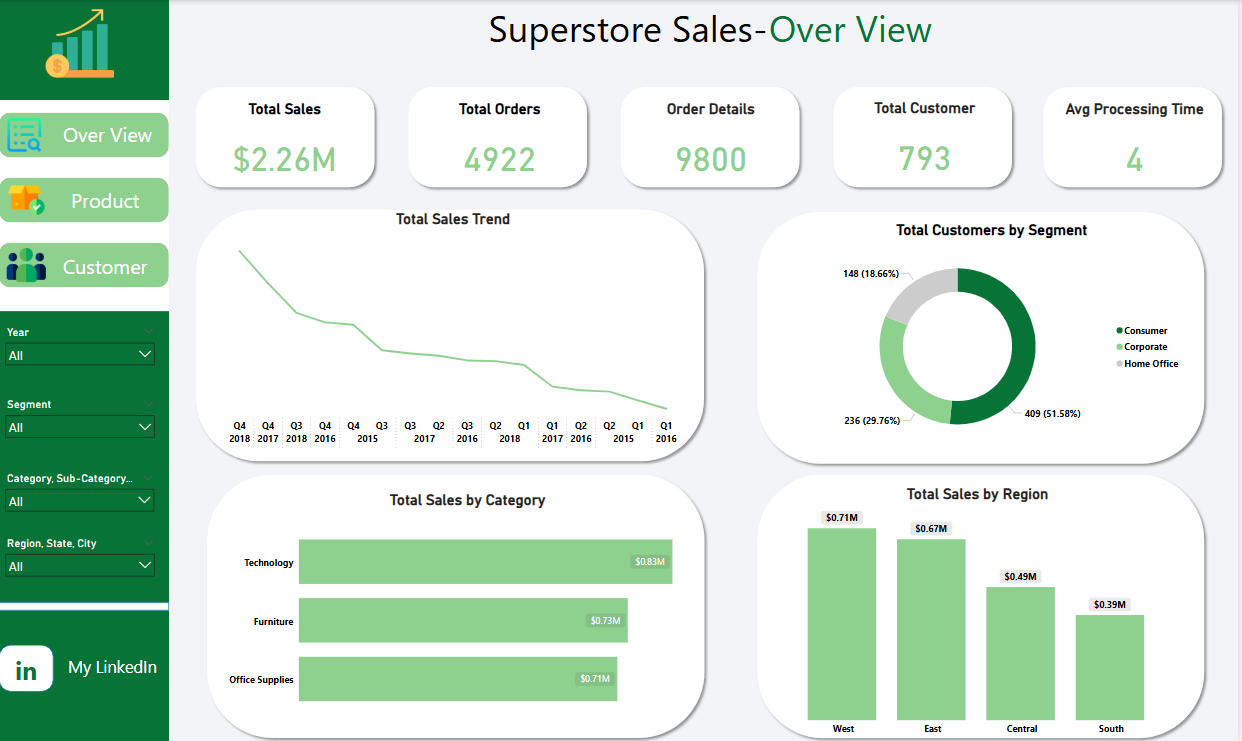

Layout of this report page (visuals, bound fields, positions):
{"tool":"powerbi","page":{"name":"Over View","canvas":[2000,1200],"ordinal":0},"visuals":[{"type":"shape","box":[0,0,274.4,1200.7],"z":0},{"type":"slicer","fields":{"Values":["Dim-Date.Year"]},"box":[0,521,261.6,79.3],"z":1000},{"type":"slicer","fields":{"Values":["Dim-Customer.Segment"]},"box":[0,636.8,261.6,79.3],"z":2000},{"type":"slicer","fields":{"Values":["Dim-Product.Category","Dim-Product.Sub-Category","Dim-Product.Product Name"]},"box":[0,756.1,260.7,85.1],"z":3000},{"type":"slicer","fields":{"Values":["Dim Location.Region","Dim Location.State","Dim Location.City"]},"box":[0,861.9,261.6,94.3],"z":4000},{"type":"shape","box":[0,392.4,274.4,12.9],"z":5000},{"type":"shape","box":[0,973.4,274.4,12.9],"z":6000},{"type":"shape","box":[308.7,130.8,306.6,180.1],"z":7000},{"type":"shape","box":[651.8,130.8,306.6,180.1],"z":8000},{"type":"shape","box":[994.9,130.8,306.6,180.1],"z":9000},{"type":"shape","box":[1337.9,130.8,306.6,180.1],"z":10000},{"type":"shape","box":[1676.7,130.8,306.6,180.1],"z":11000},{"type":"shape","box":[308.7,328,838.3,424.5],"z":12000},{"type":"shape","box":[325.9,756.9,821.2,443.8],"z":13000},{"type":"shape","box":[1213.6,332.3,739.7,424.5],"z":14000},{"type":"shape","box":[1213.6,756.9,739.7,443.8],"z":15000},{"type":"lineChart","title":"Total Sales Trend","fields":{"Y":["Measures (2).Total Sales"],"Category":["Dim-Date.Year","Dim-Date.Quarter","Dim-Date.Month","Dim-Date.Week of Year"]},"box":[364.5,338.8,735.4,394.5],"z":16000},{"type":"donutChart","fields":{"Y":["Measures (2).Total Customers"],"Category":["Dim-Customer.Segment"]},"box":[1286.5,358.1,630.4,377.4],"z":17000},{"type":"card","title":"Total Sales","fields":{"Values":["Measures (2).Total Sales"]},"box":[323.8,160.8,276.6,150.1],"z":18000},{"type":"barChart","fields":{"Y":["Measures (2).Total Sales"],"Category":["Dim-Product.Category"]},"box":[364.5,793.3,782.6,385.9],"z":19000},{"type":"columnChart","fields":{"Y":["Measures (2).Total Sales"],"Category":["Dim Location.Region"]},"box":[1243.6,782.6,673.2,413.8],"z":20000},{"type":"card","title":"Total Orders","fields":{"Values":["Measures (2).Total Orders"]},"box":[669,160.8,276.6,150.1],"z":21000},{"type":"card","title":"Order Details","fields":{"Values":["Measures (2).# Order Details"]},"box":[1009.9,160.8,276.6,150.1],"z":22000},{"type":"card","title":"Total Customer","fields":{"Values":["Measures (2).Total Customers"]},"box":[1355.1,158.7,276.6,152.2],"z":23000},{"type":"card","title":"Avg Processing Time","fields":{"Values":["Measures (2).Avg Processing Time"]},"box":[1693.8,160.8,276.6,150.1],"z":24000},{"type":"shape","box":[0,160.8,274.4,340.9],"z":25000},{"type":"shape","box":[0,182.2,274.4,72.9],"z":26000},{"type":"shape","box":[0,287.3,274.4,72.9],"z":27000},{"type":"shape","box":[0,392.4,274.4,72.9],"z":28000},{"type":"image","box":[0,289.5,87.9,68.6],"z":29000},{"type":"image","box":[0,186.5,81.5,64.3],"z":30000},{"type":"image","box":[2.1,392.4,83.6,72.9],"z":31000},{"type":"image","box":[0,10.7,261.6,120.1],"z":32000},{"type":"textbox","box":[718.2,0,859.5,100.9],"z":33000},{"type":"shape","box":[0,1042,87.9,75],"z":34000},{"type":"actionButton","box":[81.5,182.2,188.7,68.6],"z":35000},{"type":"actionButton","box":[72.9,289.5,197.3,68.6],"z":36000},{"type":"actionButton","box":[72.9,394.5,197.3,68.6],"z":37000},{"type":"actionButton","box":[6.4,1031.3,75,100.8],"z":38000},{"type":"actionButton","box":[87.9,1042,188.7,68.6],"z":39000}]}

Visuals, with their boxes in screenshot pixels (x1, y1, x2, y2), scaled from the page's 2000x1200 canvas onto the 1242x741 screenshot:
shape: select_region(0, 0, 170, 740)
slicer - Dim-Date.Year: select_region(0, 322, 162, 371)
slicer - Dim-Customer.Segment: select_region(0, 393, 162, 442)
slicer - Dim-Product.Category x Dim-Product.Sub-Category: select_region(0, 467, 162, 519)
slicer - Dim Location.Region x Dim Location.State: select_region(0, 532, 162, 590)
shape: select_region(0, 242, 170, 250)
shape: select_region(0, 601, 170, 609)
shape: select_region(192, 81, 382, 192)
shape: select_region(405, 81, 595, 192)
shape: select_region(618, 81, 808, 192)
shape: select_region(831, 81, 1021, 192)
shape: select_region(1041, 81, 1232, 192)
shape: select_region(192, 203, 712, 465)
shape: select_region(202, 467, 712, 740)
shape: select_region(754, 205, 1213, 467)
shape: select_region(754, 467, 1213, 740)
"Total Sales Trend" lineChart: select_region(226, 209, 683, 453)
donutChart - Measures (2).Total Customers x Dim-Customer.Segment: select_region(799, 221, 1190, 454)
"Total Sales" card: select_region(201, 99, 373, 192)
barChart - Measures (2).Total Sales x Dim-Product.Category: select_region(226, 490, 712, 728)
columnChart - Measures (2).Total Sales x Dim Location.Region: select_region(772, 483, 1190, 739)
"Total Orders" card: select_region(415, 99, 587, 192)
"Order Details" card: select_region(627, 99, 799, 192)
"Total Customer" card: select_region(842, 98, 1013, 192)
"Avg Processing Time" card: select_region(1052, 99, 1224, 192)
shape: select_region(0, 99, 170, 310)
shape: select_region(0, 113, 170, 158)
shape: select_region(0, 177, 170, 222)
shape: select_region(0, 242, 170, 287)
image: select_region(0, 179, 55, 221)
image: select_region(0, 115, 51, 155)
image: select_region(1, 242, 53, 287)
image: select_region(0, 7, 162, 81)
textbox: select_region(446, 0, 980, 62)
shape: select_region(0, 643, 55, 690)
actionButton: select_region(51, 113, 168, 155)
actionButton: select_region(45, 179, 168, 221)
actionButton: select_region(45, 244, 168, 286)
actionButton: select_region(4, 637, 51, 699)
actionButton: select_region(55, 643, 172, 686)
